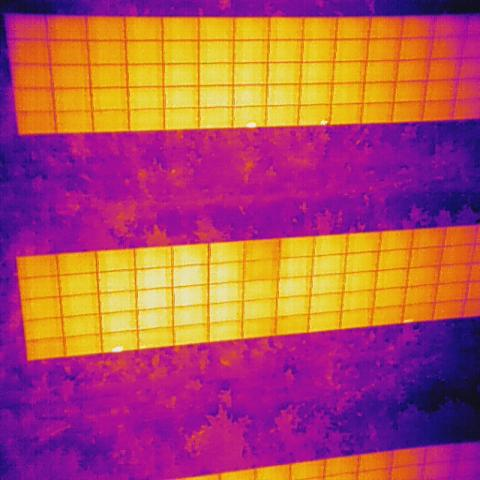fault: (110, 344, 125, 353), (246, 120, 257, 129), (402, 317, 414, 325), (138, 344, 148, 352), (320, 118, 328, 127)
